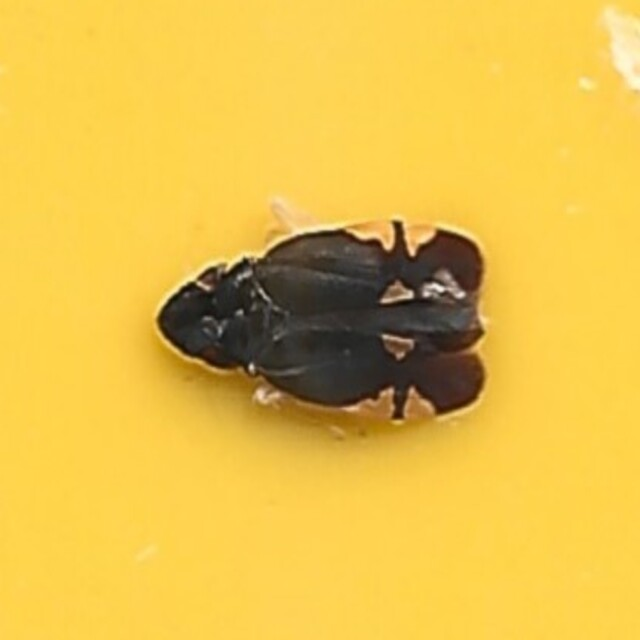Hemiptera: (153, 213, 487, 427)
